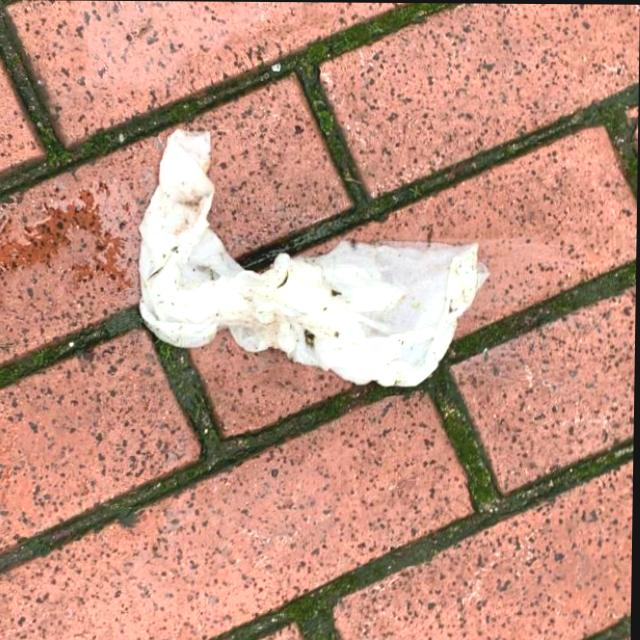Paper: (135, 123, 494, 392)
